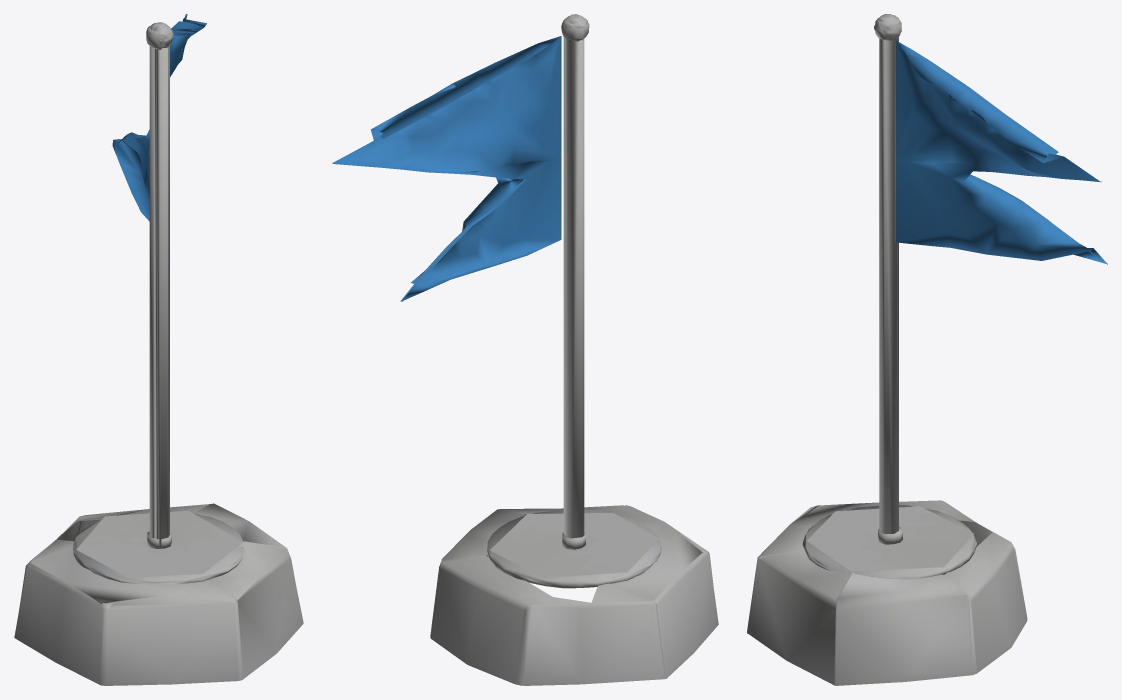
File: flag-low.glb
3 renders of one model, left to right at view 1: azimuth 30°, elevation 25°; view 2: azimuth 150°, elevation 25°; view 3: azimuth 270°, elevation 25°, orthographic.
Visible parts, largest first — view 1: flag; view 2: flag; view 3: flag.
Boxes of the visible parts, x1=… form: flag: x1=14, y1=14, x2=303, y2=685; flag: x1=332, y1=14, x2=718, y2=685; flag: x1=747, y1=14, x2=1107, y2=685.
Bounding box in the file's own units: 0.4325 × 1 × 0.5342.
1 material, 1 textured.
